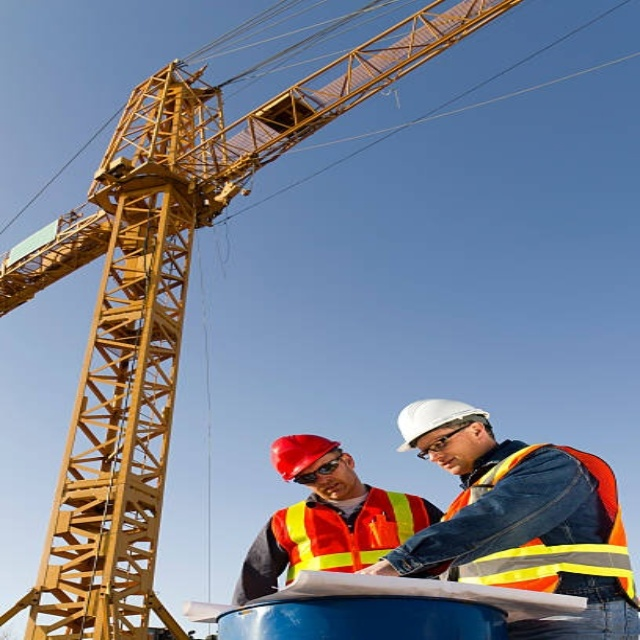Gafas: (416, 425, 468, 460), (296, 454, 343, 485)
Sin_mascara: (436, 455, 458, 476), (318, 482, 340, 497)
